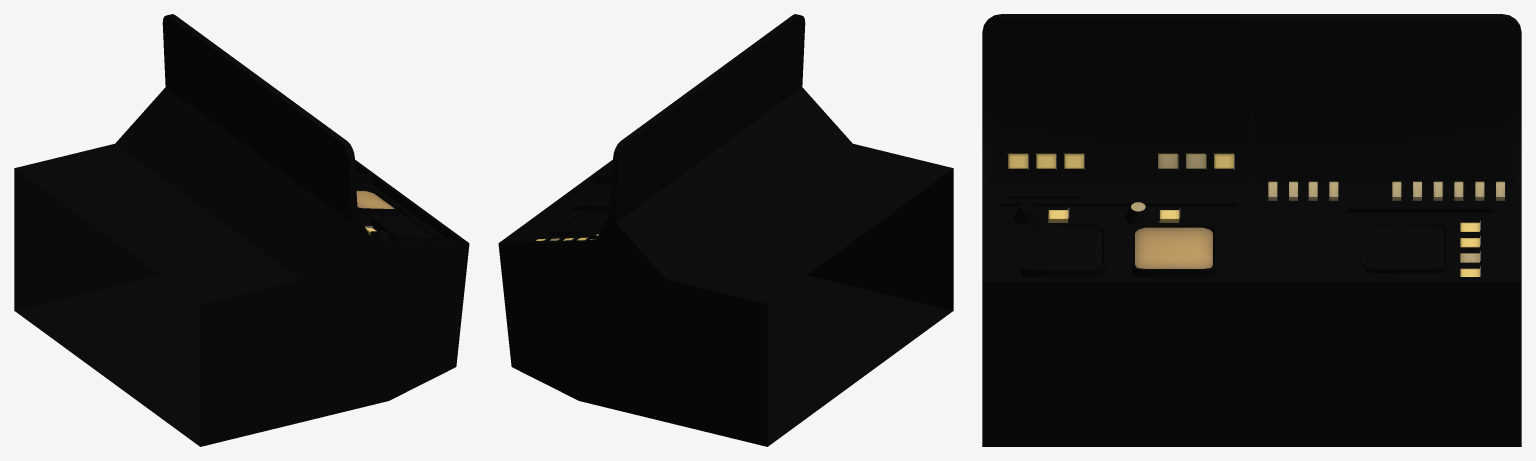
File: props_spytech_control_room_console02.glb
The picture shows the model from 3 angles, left to right: view 1: azimuth 30°, elevation 25°; view 2: azimuth 150°, elevation 25°; view 3: azimuth 270°, elevation 25°; orthographic projection. The views are drawn at different scales.
Visible parts, largest first — view 1: models/props_spytech/control_room_console02; view 2: models/props_spytech/control_room_console02; view 3: models/props_spytech/control_room_console02.
Part boxes in pixels (x1,y1,x2,y2): models/props_spytech/control_room_console02: [14, 14, 469, 446]; models/props_spytech/control_room_console02: [498, 14, 953, 446]; models/props_spytech/control_room_console02: [982, 14, 1521, 446].
Bounding box in the file's own units: 66.86 × 62.5 × 80.
1 material, 1 textured.
